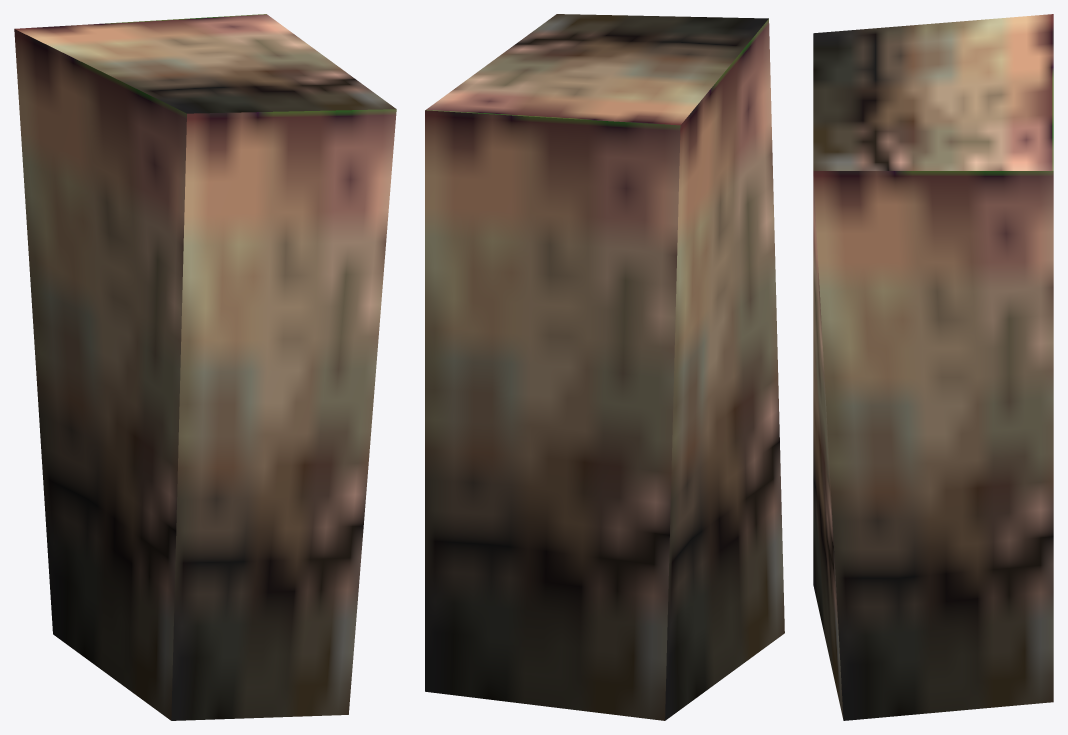
The model's file is USA - Base Infrastructure - Power Plant - Damage State 09 - ABPWRPLANT_d09.glb.
3 views of the same model, side by side, from view 1: azimuth 30°, elevation 25°; view 2: azimuth 150°, elevation 25°; view 3: azimuth 270°, elevation 25° (orthographic). The views are drawn at different scales.
Visible parts, largest first — view 1: ABPWRPLANT_D09; view 2: ABPWRPLANT_D09; view 3: ABPWRPLANT_D09.
Boxes of the visible parts, x1=… form: ABPWRPLANT_D09: x1=14, y1=14, x2=396, y2=720; ABPWRPLANT_D09: x1=425, y1=14, x2=784, y2=720; ABPWRPLANT_D09: x1=813, y1=14, x2=1053, y2=720.
Size of the model in its own units: 1.55 by 3.84 by 1.38.
Materials: 1 (1 with a texture image).
